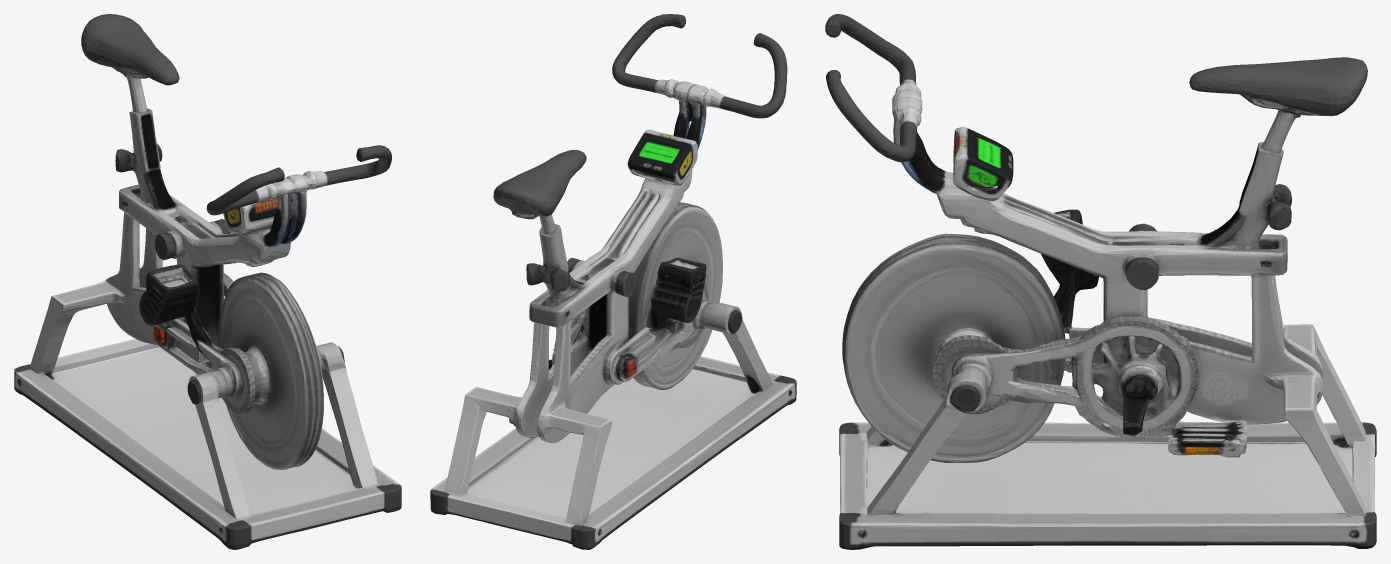
The model's file is CEVISCycle.glb.
3 renders of one model, left to right at view 1: azimuth 30°, elevation 25°; view 2: azimuth 150°, elevation 25°; view 3: azimuth 270°, elevation 25°, orthographic. The views are drawn at different scales.
Visible parts, largest first — view 1: world; view 2: world; view 3: world.
Boxes of the visible parts, x1,y1,x2,y2 form: world: [14, 14, 401, 549]; world: [430, 14, 796, 549]; world: [825, 14, 1376, 549].
Size of the model in its own units: 0.4449 by 0.8993 by 0.9891.
Materials: 1 (1 with a texture image).
